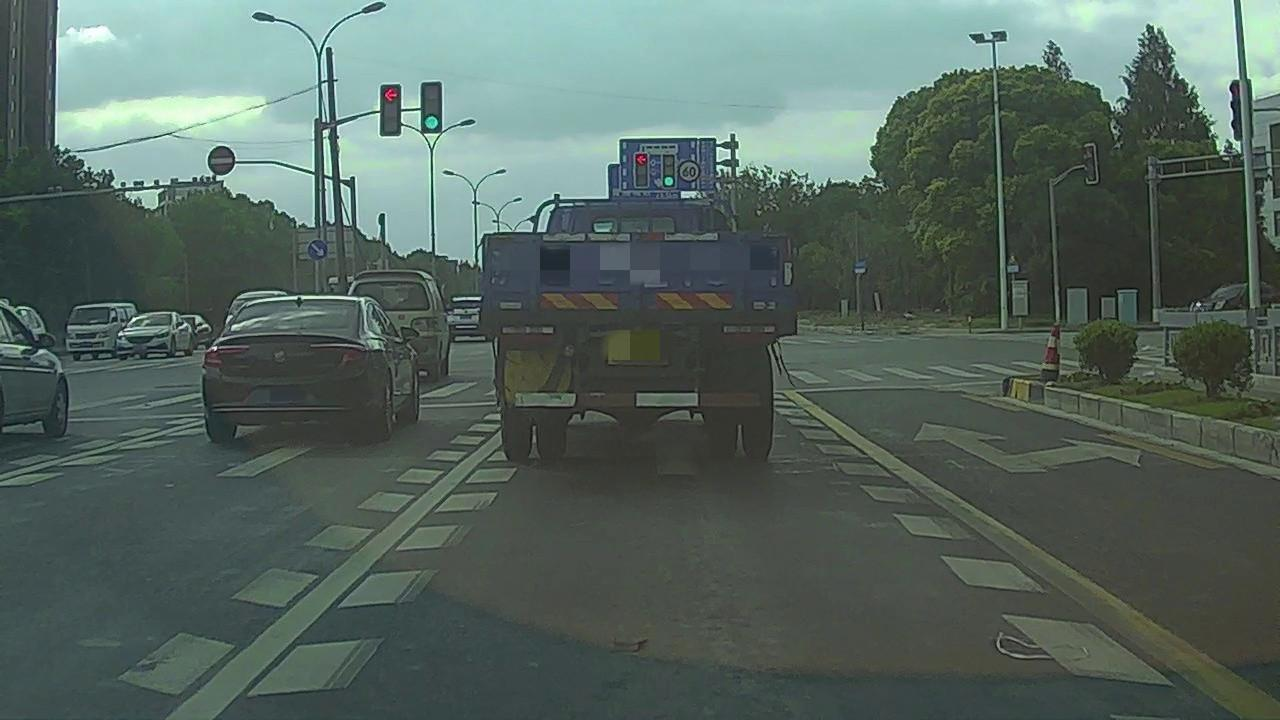traffic_light: (420, 82, 442, 134), (379, 84, 400, 136), (634, 153, 647, 188), (662, 155, 675, 188)
